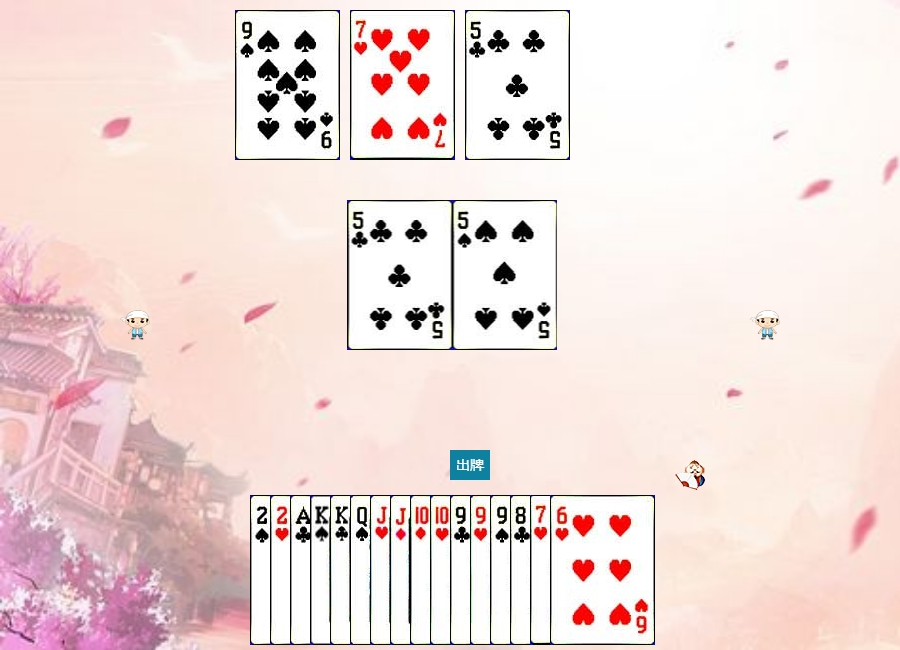10~1: (410, 495, 515, 645)
10~3: (430, 495, 535, 645)
11~1: (390, 495, 495, 645)
11~3: (370, 495, 475, 645)
12~4: (350, 495, 455, 645)
13~2: (330, 495, 435, 645)
13~4: (310, 495, 415, 645)
14~2: (290, 495, 395, 645)
15~3: (270, 495, 375, 645)
15~4: (250, 495, 355, 645)
5~2: (465, 10, 570, 160), (348, 200, 453, 350)
5~4: (453, 200, 558, 350)
6~3: (550, 495, 655, 645)
7~3: (350, 10, 455, 160), (530, 495, 635, 645)
8~2: (510, 495, 615, 645)
9~2: (450, 495, 555, 645)
9~3: (470, 495, 575, 645)
9~4: (235, 10, 340, 160), (490, 495, 595, 645)
